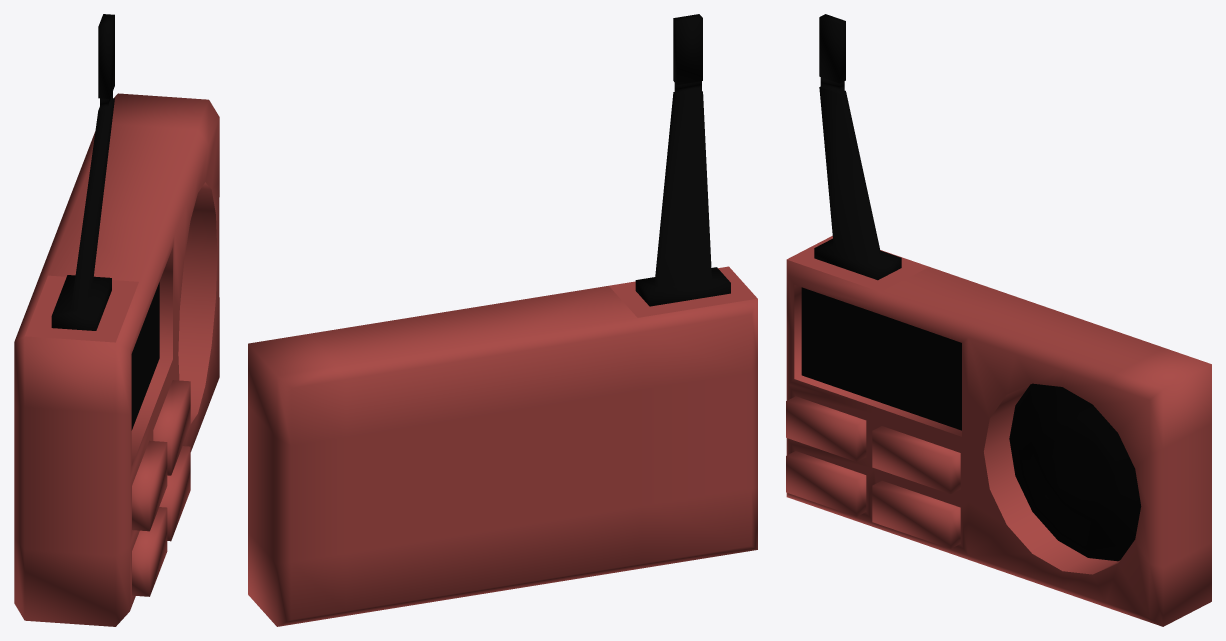
File: radio.glb
3 views of the same model, side by side, from view 1: azimuth 30°, elevation 25°; view 2: azimuth 150°, elevation 25°; view 3: azimuth 270°, elevation 25° (orthographic). The views are drawn at different scales.
Parts seen in each view (by area): view 1: prop_radio; view 2: prop_radio; view 3: prop_radio.
Boxes of the visible parts, x1,y1,x2,y2 form: prop_radio: (14,14,219,626); prop_radio: (248,14,757,626); prop_radio: (786,14,1211,626).
Bounding box in the file's own units: 0.2557 × 0.3693 × 0.2936.
